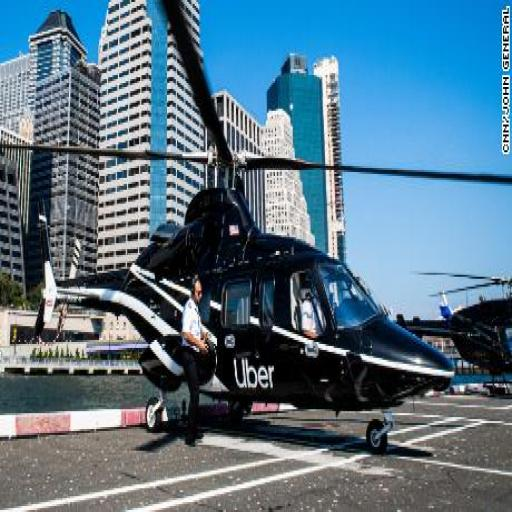helicopter: (6, 3, 512, 453)
